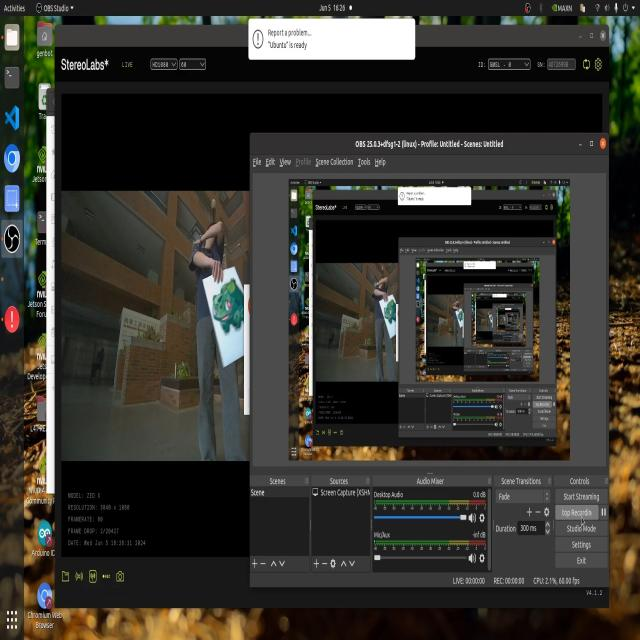green: (205, 275, 242, 339), (382, 300, 403, 329)
